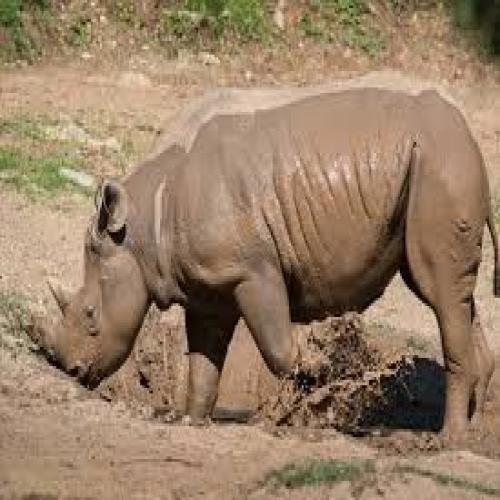rhino-endangered: (42, 94, 497, 444)
